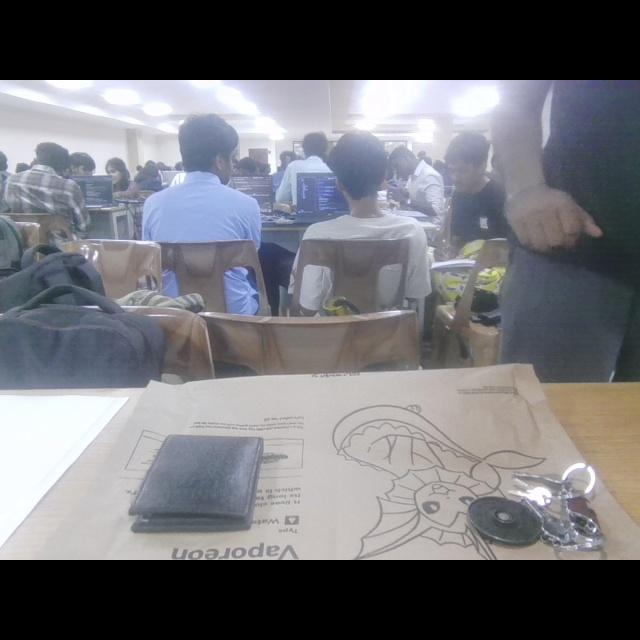keys: (462, 448, 622, 560)
wallet: (125, 414, 289, 540)
